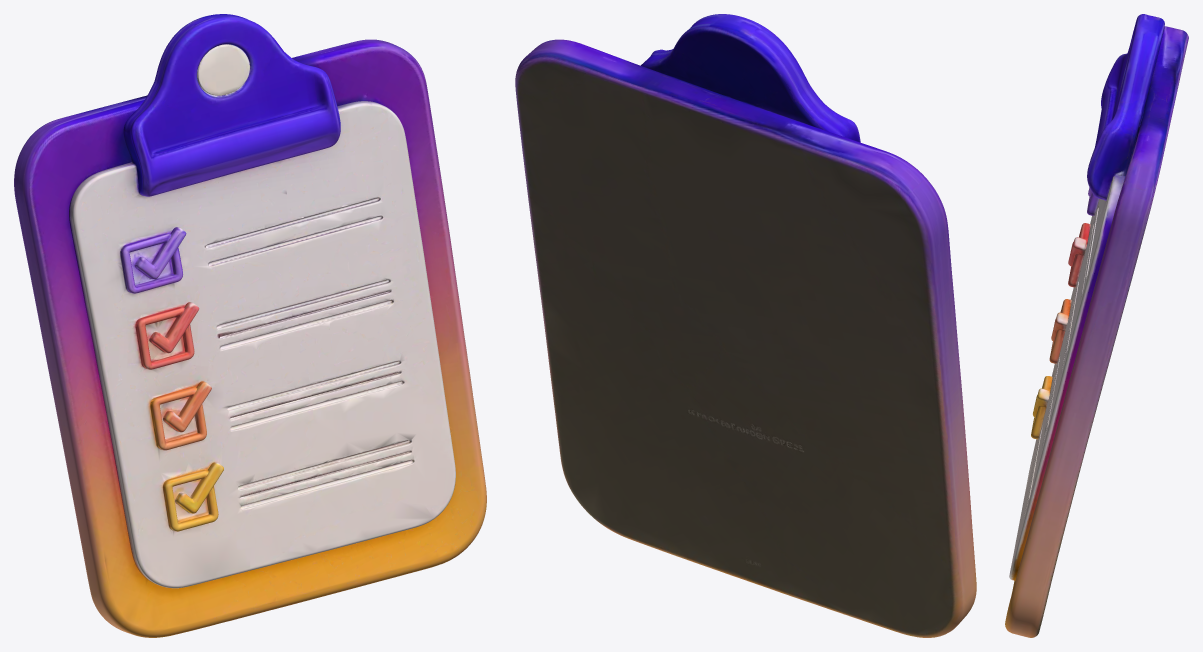
File: checklist.glb
3 renders of one model, left to right at view 1: azimuth 30°, elevation 25°; view 2: azimuth 150°, elevation 25°; view 3: azimuth 270°, elevation 25°, orthographic. The views are drawn at different scales.
Visible parts, largest first — view 1: node_0; view 2: node_0; view 3: node_0.
Boxes of the visible parts, x1,y1,x2,y2 form: node_0: (14, 14, 486, 637); node_0: (515, 14, 976, 637); node_0: (1005, 14, 1188, 637).
Bounding box in the file's own units: 0.7883 × 1.05 × 0.3172.
1 material, 1 textured.
